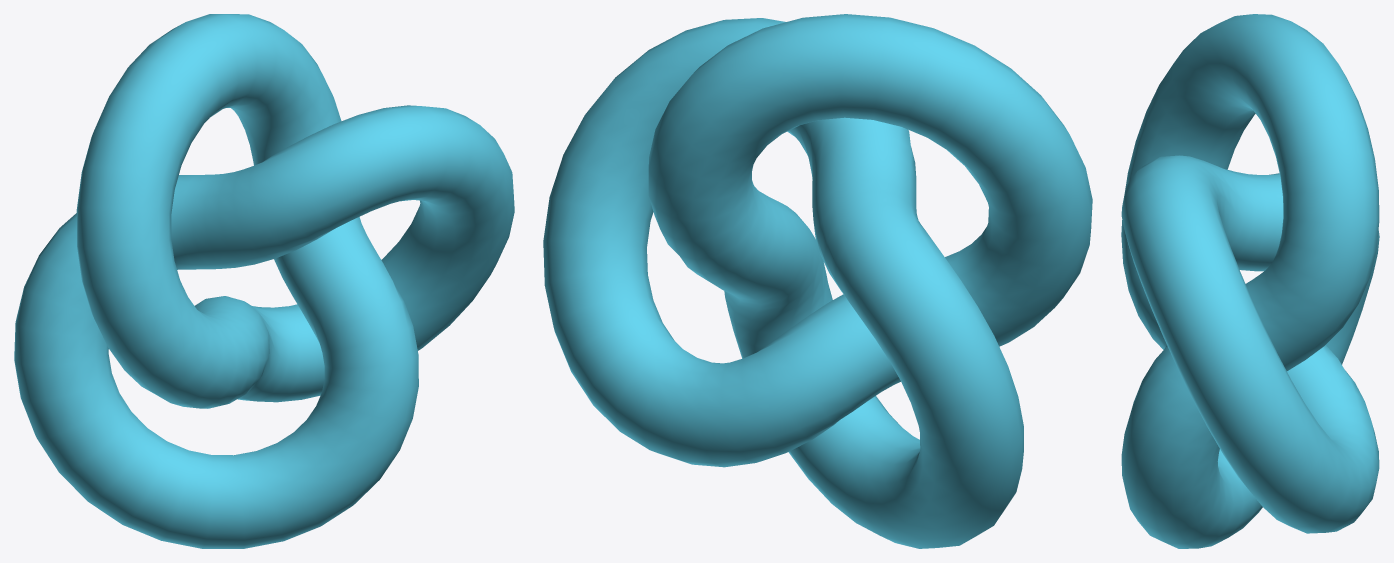
3 views of the same model, side by side, from view 1: azimuth 30°, elevation 25°; view 2: azimuth 150°, elevation 25°; view 3: azimuth 270°, elevation 25° (orthographic). The views are drawn at different scales.
Visible parts, largest first — view 1: TorusKnot; view 2: TorusKnot; view 3: TorusKnot.
Boxes of the visible parts, <box> form: TorusKnot: <box>14,14,514,548</box>; TorusKnot: <box>543,14,1092,548</box>; TorusKnot: <box>1121,14,1379,548</box>.
Size of the model in its own units: 0.3266 by 0.3424 by 0.16.
